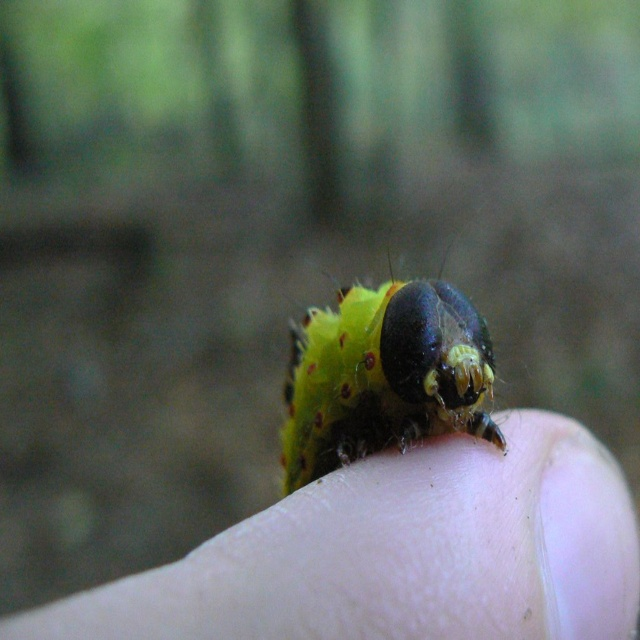Caterpillar: (273, 197, 538, 502)
